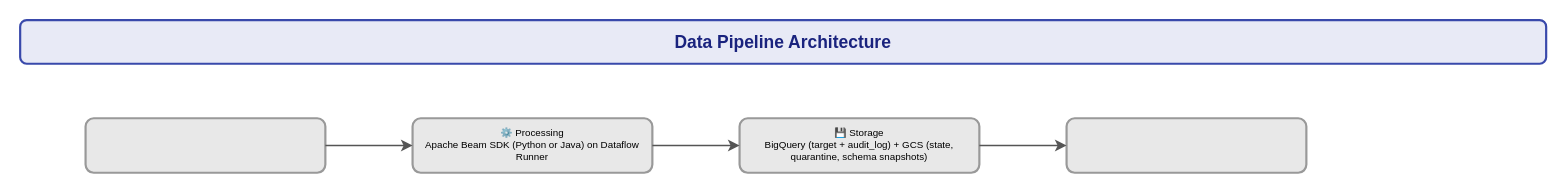
Some shapes in this 1565 by 192 pixel diagram are drawn without their labels. Each missing label, with the centre of its shape:
📊 Consumption Consumption: the point at 1186,145
📥 Ingestion GCP Dataflow with Apache Beam JDBC IO Connector: the point at 205,145
